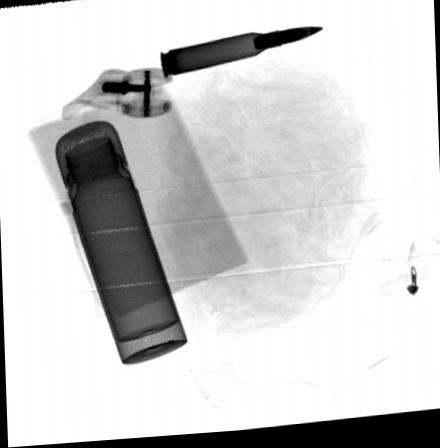Bullet: (159, 30, 326, 81)
